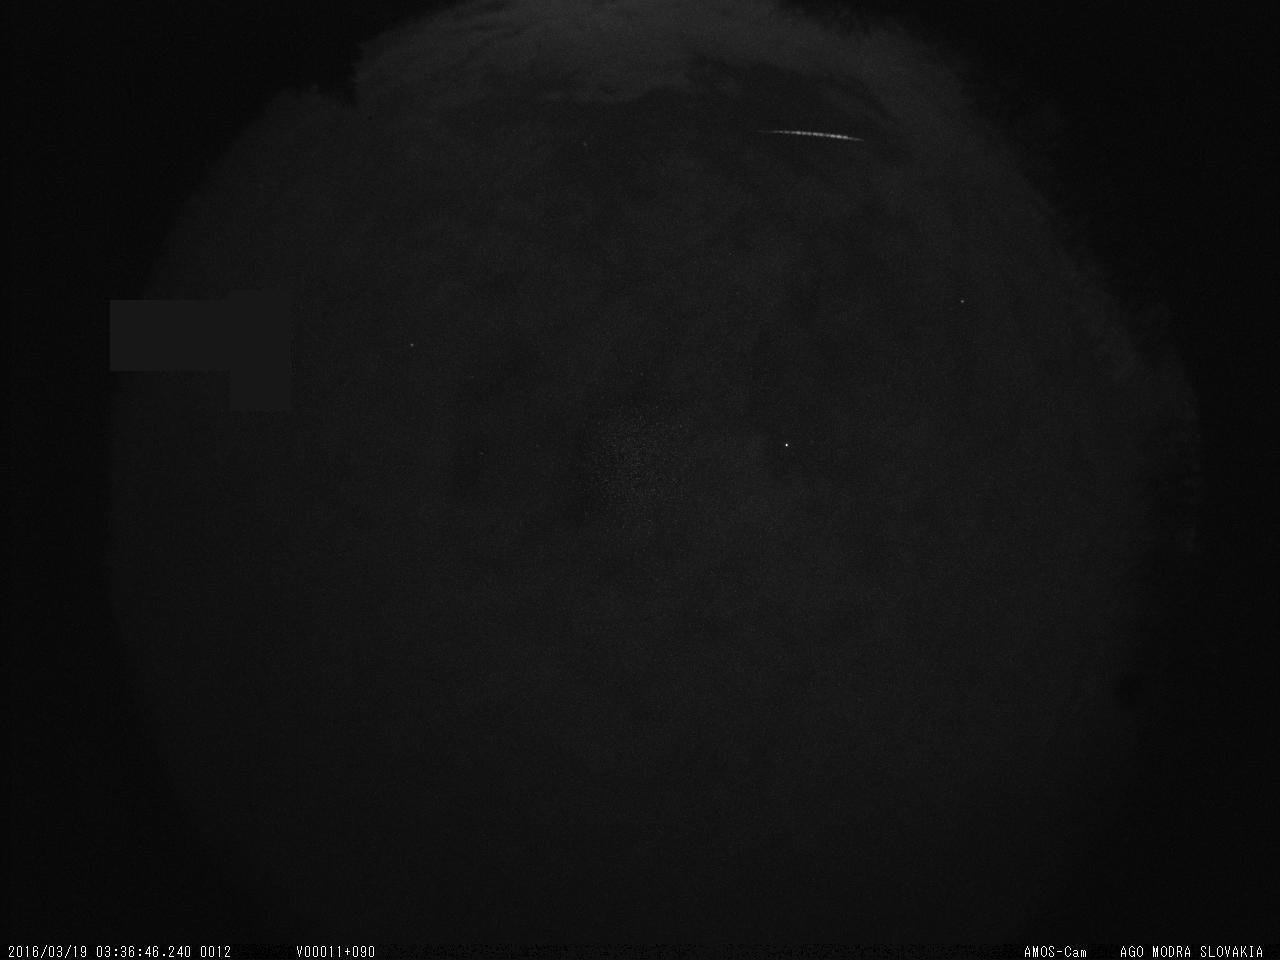Meteor: (755, 119, 870, 155)
